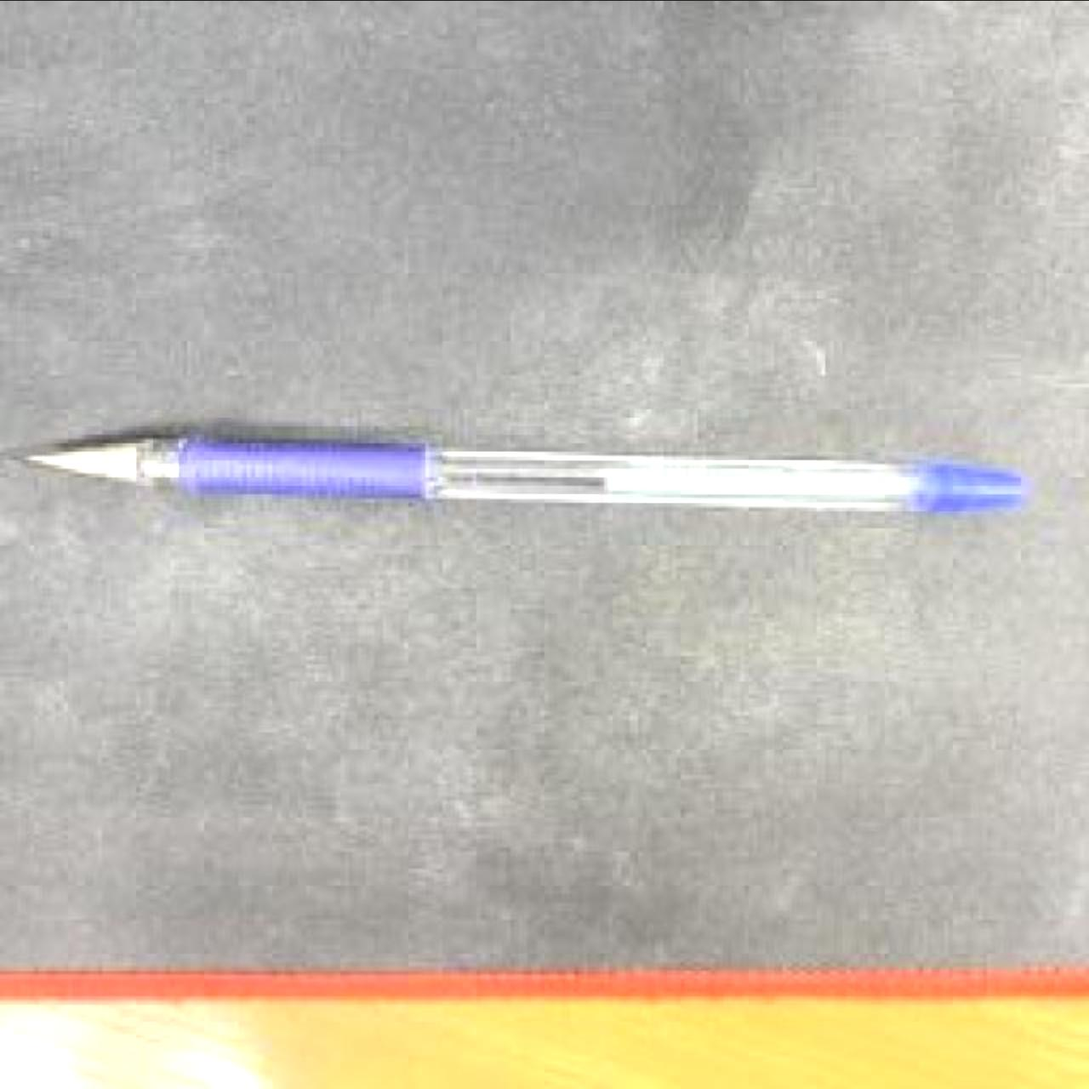pen: (26, 430, 1038, 524)
